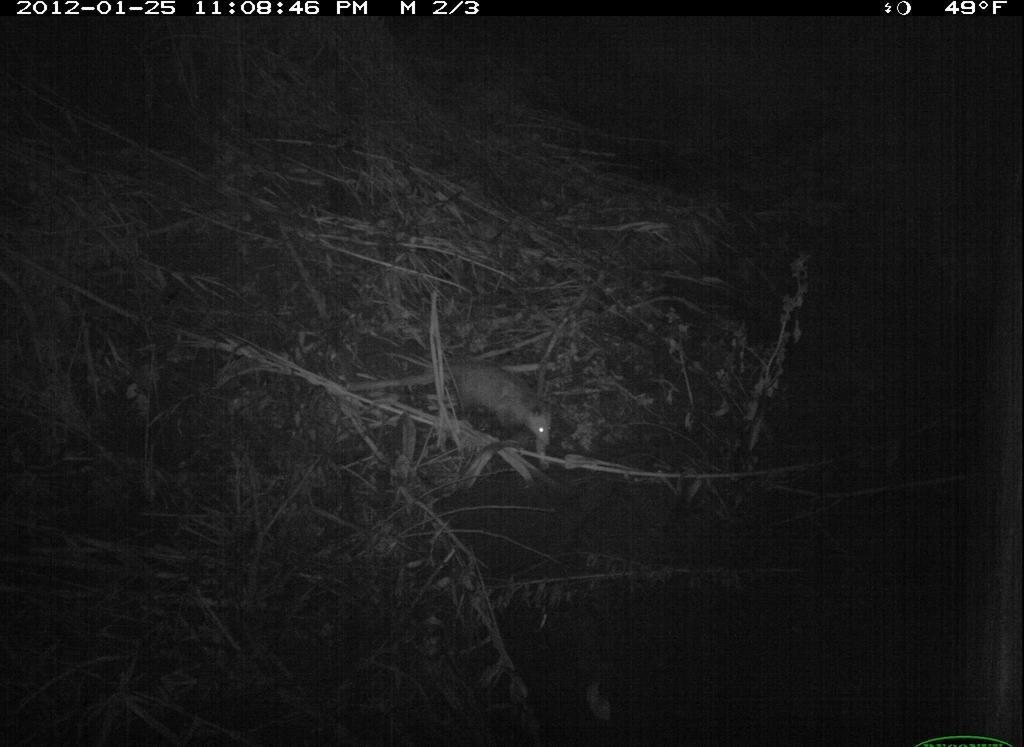opossum: (386, 350, 561, 454)
